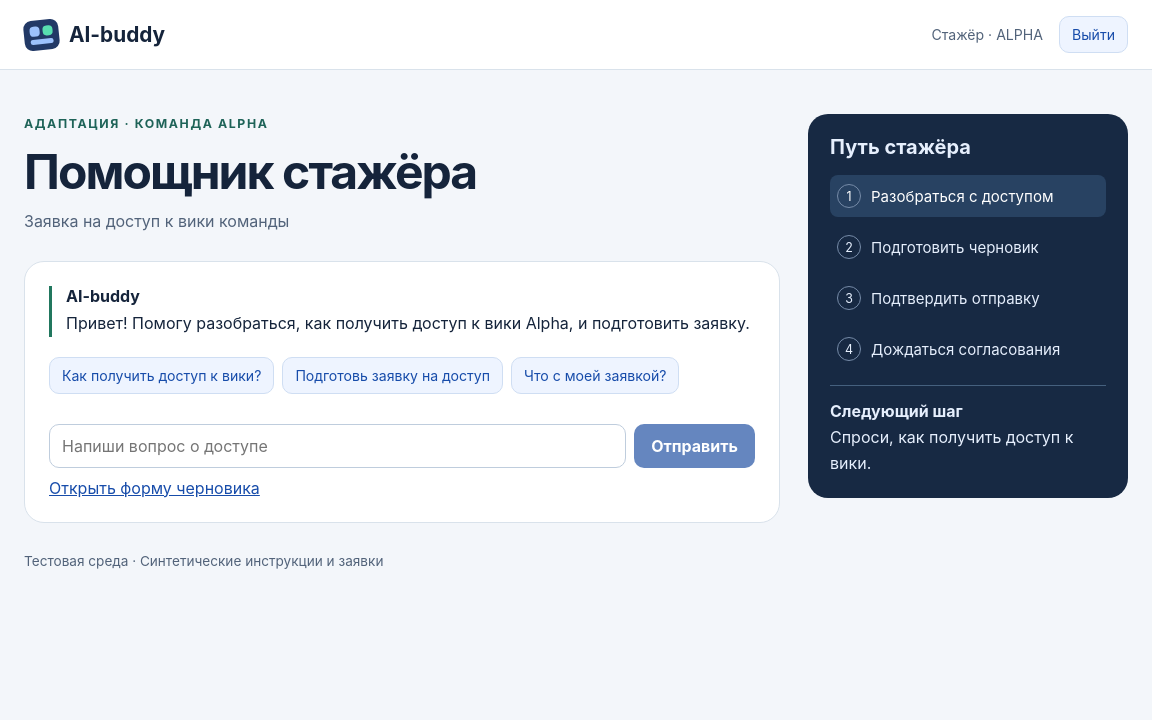
it: AI-buddy › ignores a previous account’s chat reply after sign-out
Click the button "Как получить доступ к вики?".
click(162, 375)  # box [49,356,274,394]
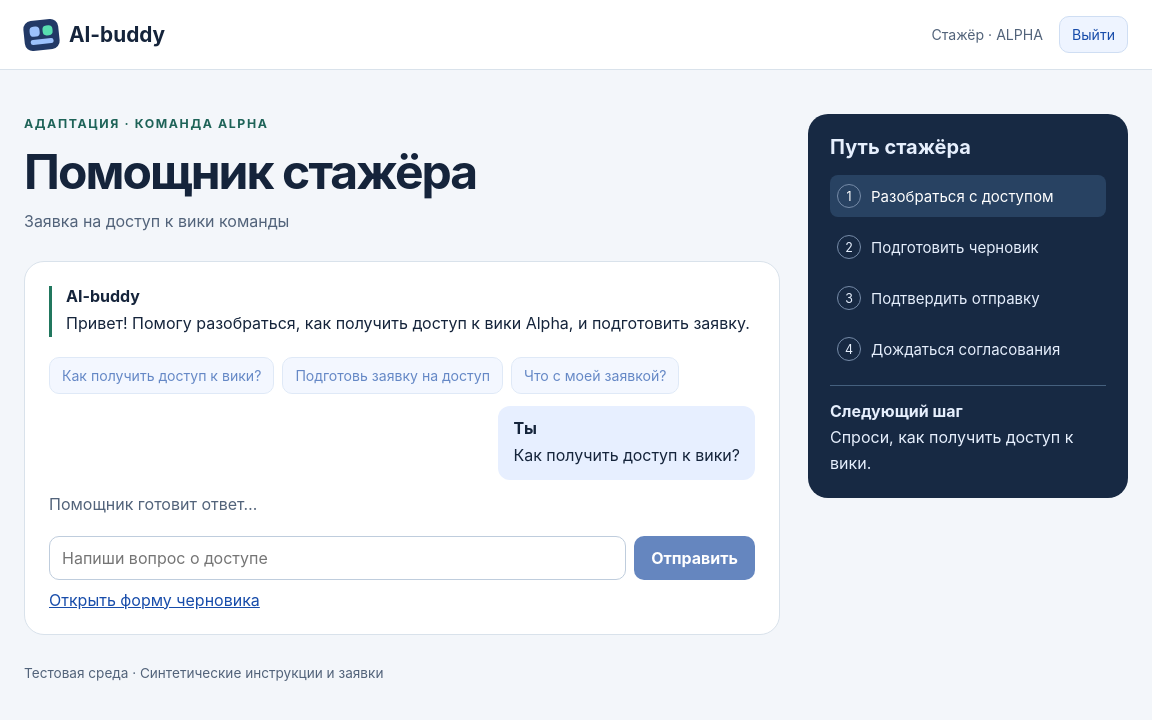
Click the button "Выйти".
click(1094, 34)  # box [1059,16,1128,53]
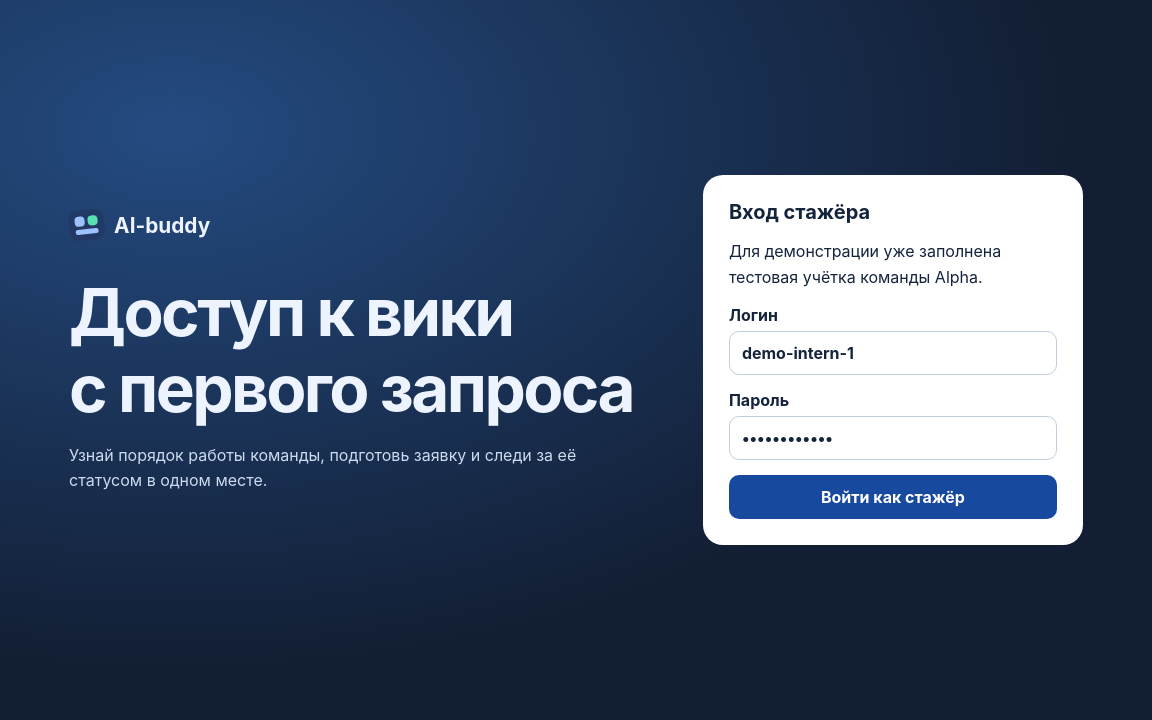
Click the button "Войти как стажёр".
click(893, 497)  # box [729,475,1057,519]
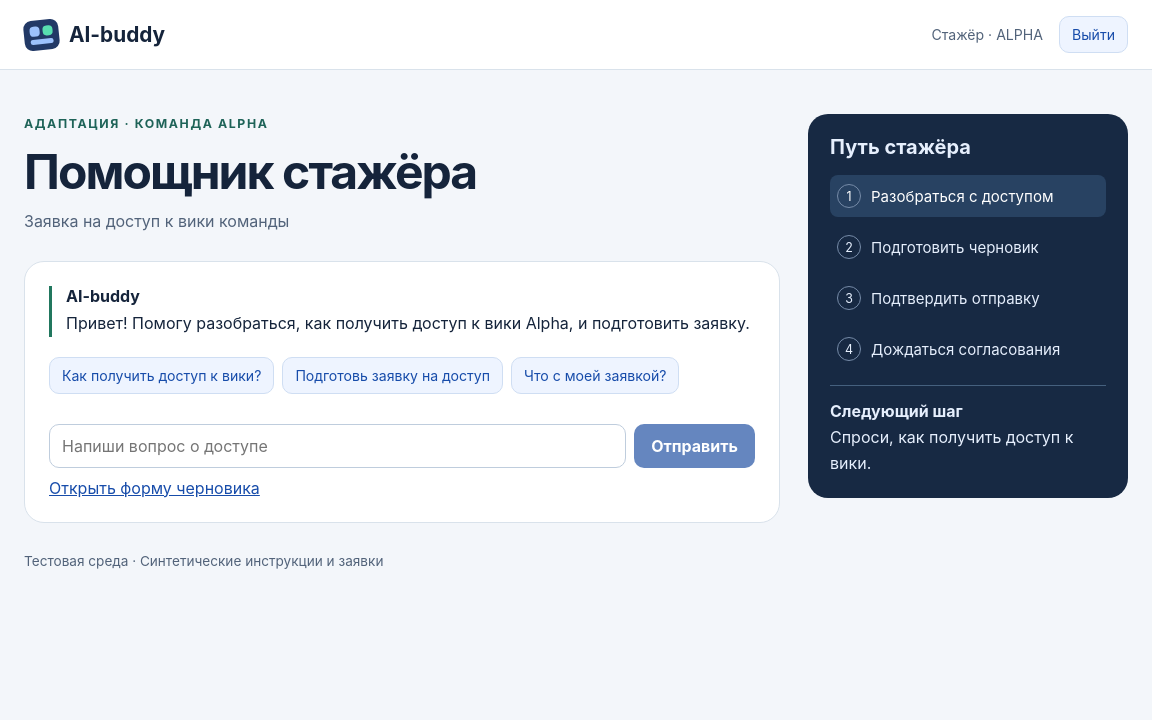
Now the heading "Помощник стажёра" is shown, box [24,142,476,201]
